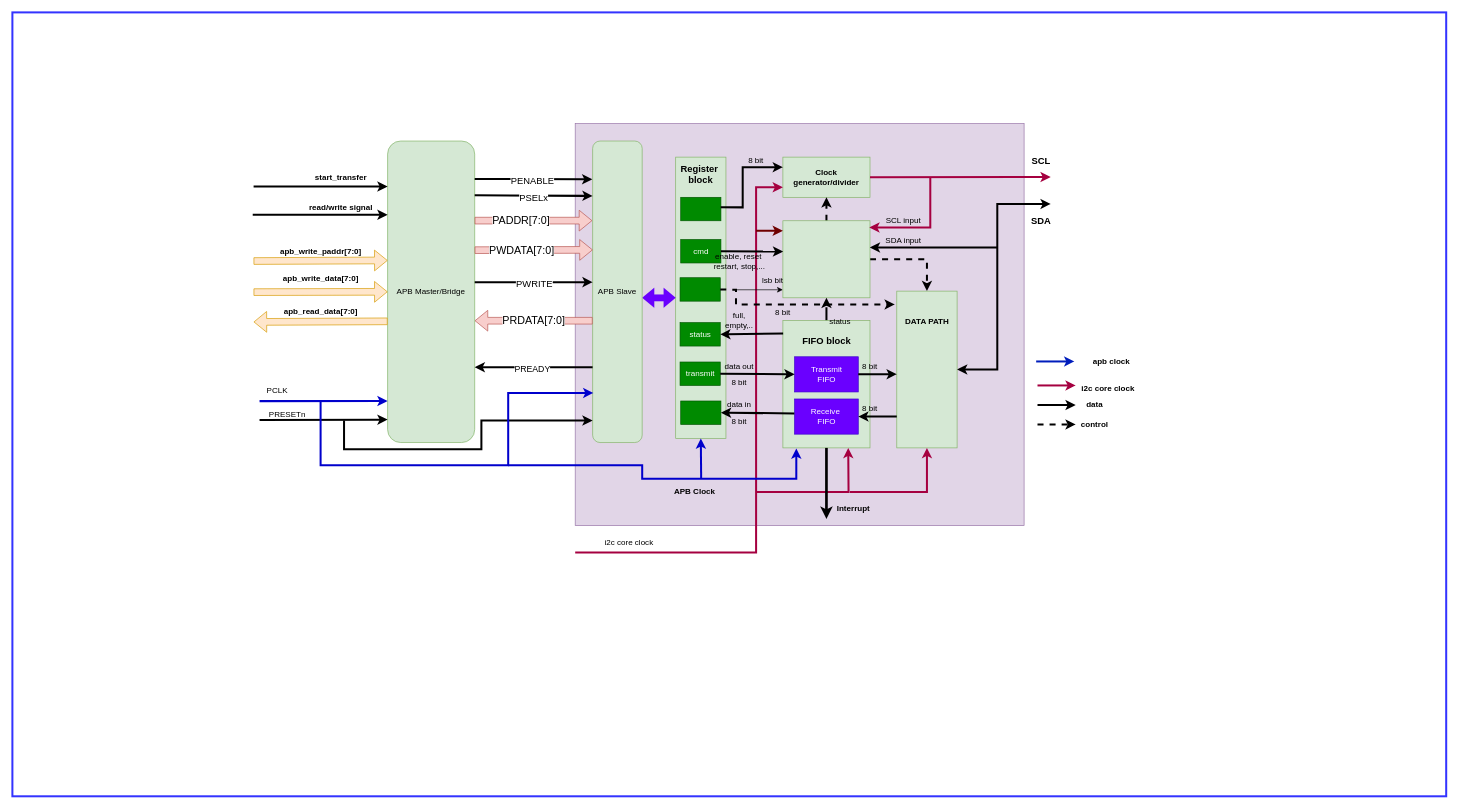
Image size: 1459x809. Some labels were removed from this diagram. Each missing label, with the box of its shape:
address +rw_bit: (679, 277, 720, 301)
FSM: (782, 220, 870, 298)
prescale: (680, 197, 721, 221)
receive: (680, 400, 721, 424)
